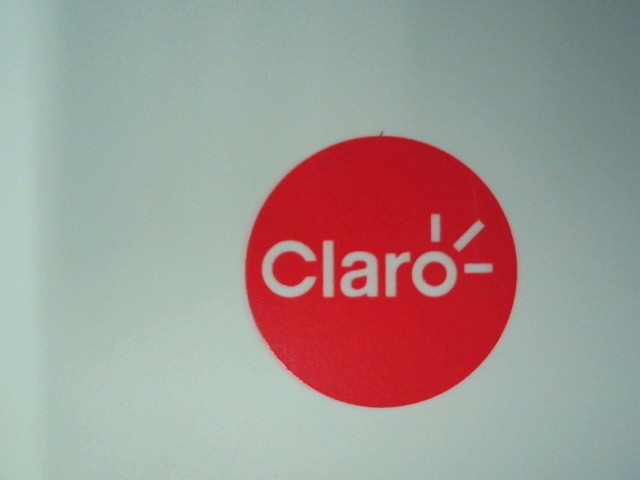BC_ClaorRed: (235, 132, 532, 409)
